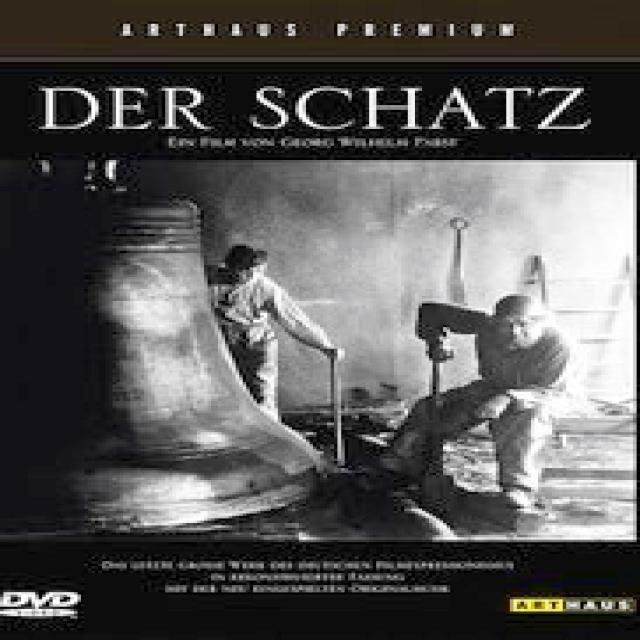movie-judul: (42, 58, 640, 156)
picture: (196, 236, 601, 523)
